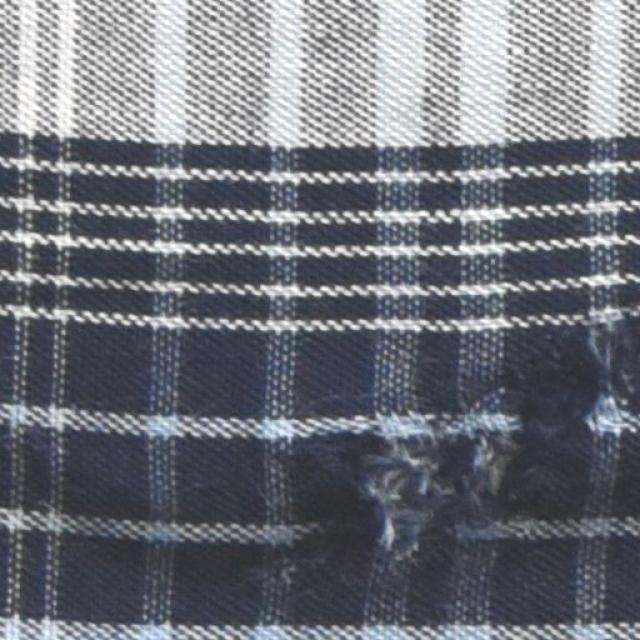Snag: (295, 331, 639, 584)
